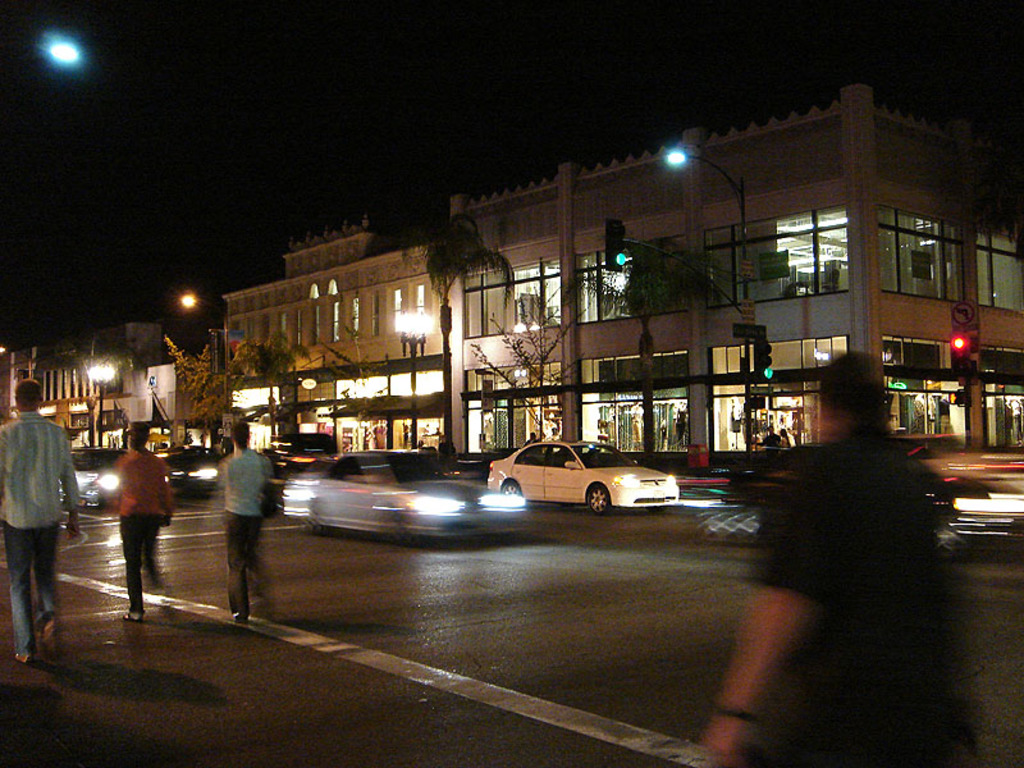cars: (307, 449, 532, 545), (487, 440, 679, 514), (262, 431, 340, 478), (280, 456, 335, 518)
